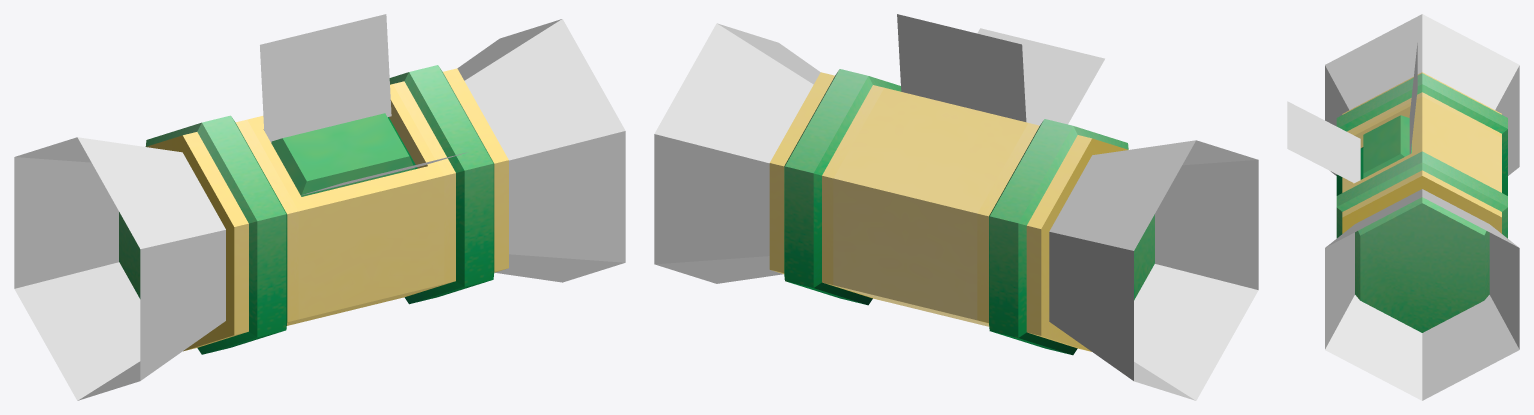
Rendered from Loot box (2).fbx.
3 views of the same model, side by side, from view 1: azimuth 30°, elevation 25°; view 2: azimuth 150°, elevation 25°; view 3: azimuth 270°, elevation 25° (orthographic). The views are drawn at different scales.
Visible parts, largest first — view 1: Light, Box; view 2: Light, Box; view 3: Light, Box.
Part boxes in pixels (x1,y1,x2,y2): Light: (14,14,625,400); Box: (119,65,508,354); Light: (654,14,1258,400); Box: (769,69,1154,355); Light: (1287,14,1519,400); Box: (1336,72,1507,332).
Size of the model in its own units: 222 by 138 by 119.
